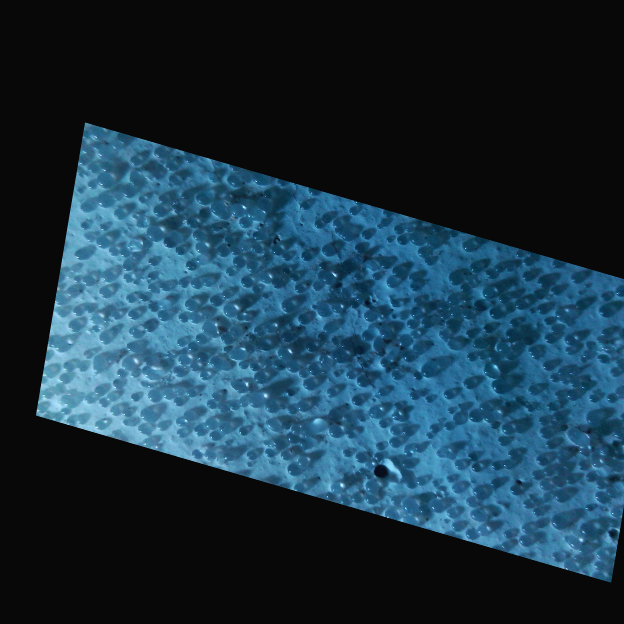GrassBeadSeg: (52, 207, 604, 559), (194, 163, 589, 553), (95, 239, 563, 561), (156, 194, 595, 535), (119, 185, 556, 525), (128, 156, 587, 469), (79, 222, 606, 490), (227, 204, 606, 557), (95, 180, 521, 460), (97, 148, 438, 486), (111, 275, 595, 512), (81, 276, 512, 539), (58, 325, 618, 527), (152, 149, 548, 423), (98, 162, 492, 433), (184, 268, 593, 527), (176, 201, 523, 501), (193, 193, 556, 479), (157, 206, 485, 521), (119, 187, 519, 438), (95, 236, 552, 455), (319, 213, 602, 563), (230, 190, 586, 461), (282, 180, 597, 481), (179, 191, 514, 469), (238, 219, 533, 533), (228, 267, 608, 504), (133, 326, 558, 535), (274, 177, 623, 422), (297, 201, 567, 503), (183, 174, 609, 363), (61, 293, 512, 463), (111, 209, 414, 459), (98, 223, 574, 380), (188, 217, 612, 392), (75, 329, 518, 492), (54, 294, 600, 424), (328, 210, 576, 494), (306, 186, 611, 412), (73, 223, 550, 367), (329, 304, 589, 567), (254, 250, 541, 488), (199, 282, 522, 491), (189, 300, 529, 492), (320, 244, 531, 547), (163, 240, 551, 403), (72, 250, 365, 461), (202, 276, 564, 436), (66, 256, 340, 464), (204, 337, 532, 508), (56, 374, 477, 507), (70, 277, 489, 409), (173, 285, 565, 426), (395, 311, 604, 570), (299, 251, 478, 538), (42, 247, 430, 378), (237, 335, 575, 479), (184, 218, 403, 439), (321, 279, 552, 487), (118, 375, 548, 486), (81, 281, 352, 457), (190, 283, 470, 452), (128, 373, 623, 468), (353, 247, 562, 469), (53, 278, 416, 400), (208, 355, 623, 460), (378, 358, 576, 571), (353, 230, 598, 402), (238, 324, 621, 434), (324, 377, 616, 521), (278, 255, 442, 511), (223, 258, 435, 454), (81, 246, 485, 348), (161, 237, 473, 369), (166, 199, 412, 365), (407, 233, 579, 469), (233, 355, 606, 461), (197, 334, 554, 443), (170, 203, 450, 340), (186, 219, 470, 352), (90, 226, 440, 332), (126, 326, 600, 403), (181, 245, 418, 399), (347, 206, 477, 483), (236, 271, 446, 427), (248, 362, 457, 518), (227, 327, 570, 422), (128, 218, 305, 400), (60, 263, 340, 376), (280, 252, 398, 519), (284, 410, 541, 532), (303, 253, 528, 392), (207, 203, 582, 283), (126, 309, 454, 400), (380, 294, 509, 525), (154, 147, 379, 279), (118, 248, 296, 410), (163, 163, 359, 309), (324, 380, 507, 535), (190, 231, 623, 296), (174, 338, 557, 411), (247, 245, 486, 359), (92, 363, 498, 429), (66, 250, 560, 304), (120, 203, 244, 417), (266, 401, 462, 533), (100, 195, 234, 382), (460, 240, 559, 488), (188, 278, 342, 437), (81, 295, 459, 359), (199, 208, 404, 326), (87, 302, 547, 353), (97, 206, 303, 319), (376, 271, 533, 419), (155, 310, 316, 453), (204, 246, 418, 353), (404, 223, 603, 337), (100, 244, 376, 321), (482, 286, 566, 529), (192, 310, 499, 375), (204, 322, 568, 376), (199, 343, 424, 428), (202, 412, 596, 459), (284, 330, 444, 443), (86, 181, 270, 277), (63, 287, 195, 420), (155, 276, 294, 401), (316, 271, 556, 343), (124, 281, 360, 352), (98, 285, 420, 336), (52, 147, 111, 425), (226, 341, 459, 410), (195, 299, 400, 376), (137, 300, 295, 394), (146, 172, 268, 292), (139, 347, 337, 420), (348, 422, 514, 509), (193, 342, 308, 467), (399, 351, 485, 517), (97, 161, 174, 344), (412, 233, 490, 411), (289, 425, 552, 477), (128, 281, 275, 373), (264, 419, 548, 466), (114, 229, 204, 375), (222, 262, 361, 353), (85, 164, 184, 278), (78, 173, 172, 291), (452, 476, 581, 561), (311, 219, 421, 317), (493, 267, 611, 358), (192, 424, 382, 479), (359, 245, 476, 334), (272, 430, 407, 505), (146, 283, 421, 317), (365, 405, 590, 446), (407, 346, 575, 398), (289, 352, 398, 432), (146, 178, 240, 265), (345, 352, 538, 394), (95, 386, 229, 446), (83, 311, 151, 425), (133, 156, 229, 235), (486, 352, 622, 407), (272, 283, 384, 348), (188, 290, 408, 323), (328, 348, 401, 447), (151, 174, 258, 241), (207, 358, 388, 396), (87, 195, 205, 253), (245, 207, 436, 240), (296, 314, 363, 406), (288, 273, 373, 342), (75, 187, 143, 271), (495, 263, 557, 354), (182, 260, 292, 311), (144, 226, 260, 274), (553, 388, 617, 473), (356, 463, 447, 522), (575, 283, 619, 401), (252, 374, 300, 476), (399, 411, 480, 467), (66, 268, 145, 323), (223, 267, 263, 375), (354, 294, 445, 338), (77, 147, 144, 203), (392, 401, 454, 458), (496, 436, 533, 531), (400, 459, 465, 513), (341, 345, 387, 421), (469, 269, 517, 341), (470, 455, 546, 499), (442, 302, 498, 357), (564, 463, 622, 516), (419, 343, 508, 377), (376, 367, 410, 456), (450, 273, 616, 290), (214, 191, 271, 240), (329, 285, 387, 333), (364, 432, 400, 505), (71, 269, 148, 303), (90, 129, 136, 185), (138, 366, 184, 419), (260, 275, 292, 351), (143, 321, 188, 372), (210, 224, 269, 261), (156, 397, 205, 437), (263, 362, 299, 413), (417, 474, 453, 523), (233, 326, 259, 393), (284, 333, 328, 371), (375, 224, 454, 244), (219, 326, 263, 359), (122, 251, 146, 301), (467, 262, 496, 299), (507, 485, 566, 503), (260, 267, 289, 299), (108, 406, 143, 431), (428, 406, 460, 431), (141, 322, 154, 378), (139, 356, 148, 434), (271, 361, 317, 376), (114, 293, 134, 319), (93, 386, 115, 407), (222, 235, 249, 251), (362, 452, 381, 470), (326, 411, 352, 421), (142, 356, 152, 376), (276, 348, 290, 359), (199, 328, 217, 336), (493, 263, 511, 271), (471, 302, 486, 310)
